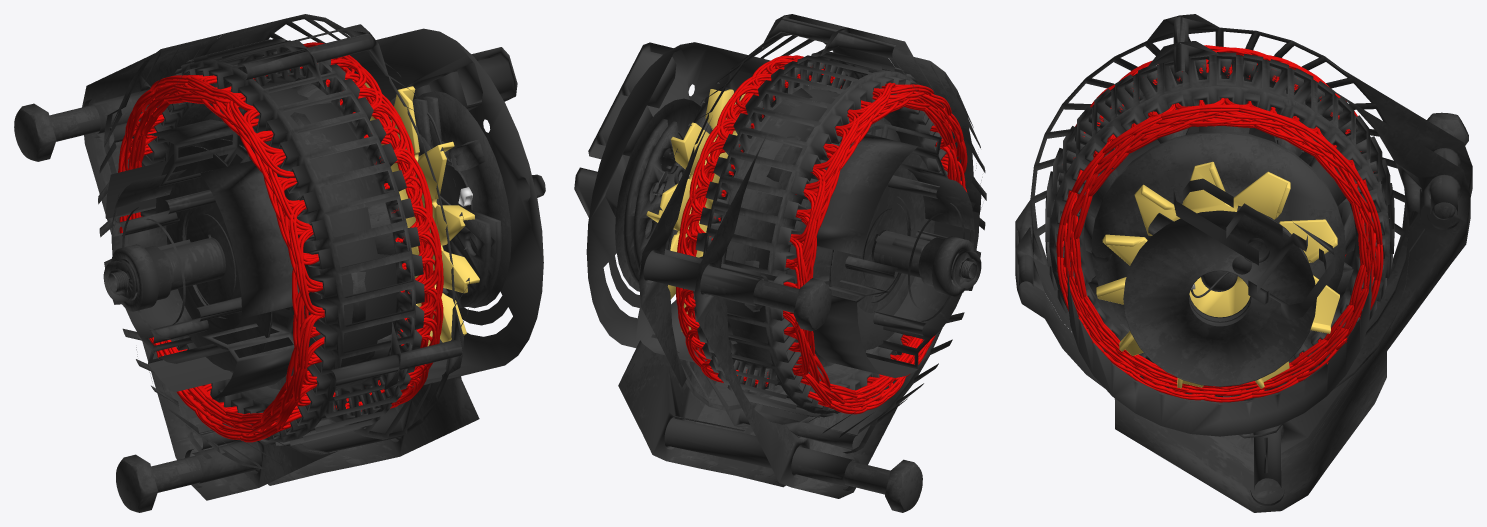
The model's file is alternator-assembly.glb.
3 views of the same model, side by side, from view 1: azimuth 30°, elevation 25°; view 2: azimuth 150°, elevation 25°; view 3: azimuth 270°, elevation 25° (orthographic). The views are drawn at different scales.
Parts seen in each view (by area): view 1: 1.001_Steel_0, 12.001_Steel_0, 1.004_Plastic_0, 12.001_Plastic_0, 1.004_Steel_0, 12-1.008_Red Wires_0 (×3), 12-1.009_Red Wires_0 (×3), 20-1.001_Steel_0, 19.001_Brass_0, Circle.003, 12-1.007_Red Wires_0 (×2), Diode?.001 (+8 smaller); view 2: 1.001_Steel_0, 1.004_Steel_0, 12.001_Steel_0, 1.004_Plastic_0, 12.001_Plastic_0, 12-1.009_Red Wires_0 (×3), 12-1.008_Red Wires_0 (×3), 20-1.001_Steel_0, Diode?.001, 12-1.007_Red Wires_0 (×2), 12-1.010_Red Wires_0 (×2), 4.001_Steel_0 (+8 smaller); view 3: 1.004_Steel_0, Circle.003, 4-2.001_Steel_0, 1.004_Plastic_0, 12.001_Steel_0, 12-1.007_Red Wires_0 (×3), 12-1.010_Red Wires_0 (×3), 1.001_Steel_0, 12.001_Plastic_0, 19.001_Brass_0, 4.001_Steel_0, Diode?.001 (+2 smaller).
Boxes of the visible parts, x1,y1,x2,y2 form: 1.001_Steel_0: [82, 34, 400, 500]; 12.001_Steel_0: [152, 43, 415, 442]; 1.004_Plastic_0: [342, 28, 545, 386]; 12.001_Plastic_0: [140, 38, 424, 446]; 1.004_Steel_0: [200, 14, 479, 485]; 12-1.008_Red Wires_0 (×3): [118, 75, 324, 442]; 12-1.009_Red Wires_0 (×3): [118, 75, 324, 440]; 20-1.001_Steel_0: [155, 138, 292, 371]; 19.001_Brass_0: [364, 82, 479, 346]; Circle.003: [417, 91, 511, 308]; 12-1.007_Red Wires_0 (×2): [255, 42, 443, 411]; Diode?.001: [388, 96, 501, 308]; 1.001_Steel_0: [694, 28, 986, 498]; 1.004_Steel_0: [618, 14, 894, 487]; 12.001_Steel_0: [702, 56, 928, 414]; 1.004_Plastic_0: [574, 42, 783, 362]; 12.001_Plastic_0: [693, 51, 947, 417]; 12-1.009_Red Wires_0 (×3): [783, 84, 967, 414]; 12-1.008_Red Wires_0 (×3): [783, 82, 967, 413]; 20-1.001_Steel_0: [814, 153, 934, 350]; Diode?.001: [623, 118, 684, 289]; 12-1.007_Red Wires_0 (×2): [676, 55, 841, 383]; 12-1.010_Red Wires_0 (×2): [677, 55, 844, 386]; 4.001_Steel_0: [744, 96, 958, 368]; 1.004_Steel_0: [1015, 41, 1470, 512]; Circle.003: [1123, 210, 1316, 386]; 4-2.001_Steel_0: [1087, 118, 1353, 329]; 1.004_Plastic_0: [1067, 178, 1371, 436]; 12.001_Steel_0: [1049, 54, 1390, 389]; 12-1.007_Red Wires_0 (×3): [1056, 98, 1383, 400]; 12-1.010_Red Wires_0 (×3): [1057, 101, 1382, 402]; 1.001_Steel_0: [1015, 14, 1472, 397]; 12.001_Plastic_0: [1045, 52, 1394, 396]; 19.001_Brass_0: [1096, 161, 1339, 388]; 4.001_Steel_0: [1084, 126, 1355, 253]; Diode?.001: [1189, 205, 1309, 326].
Size of the model in its own units: 24.14 by 28.94 by 28.94.
5 materials, 1 textured.
